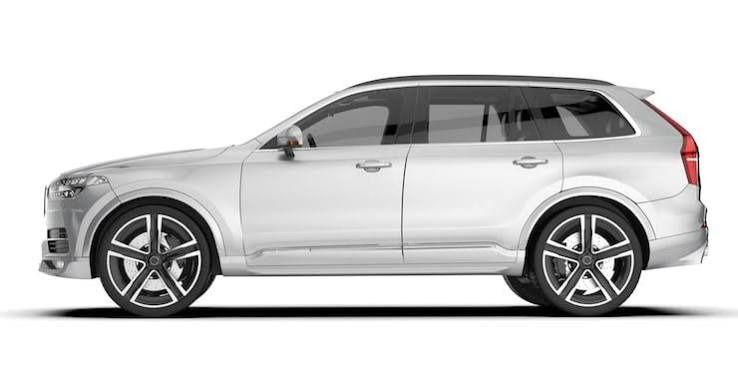car: (31, 78, 713, 318)
